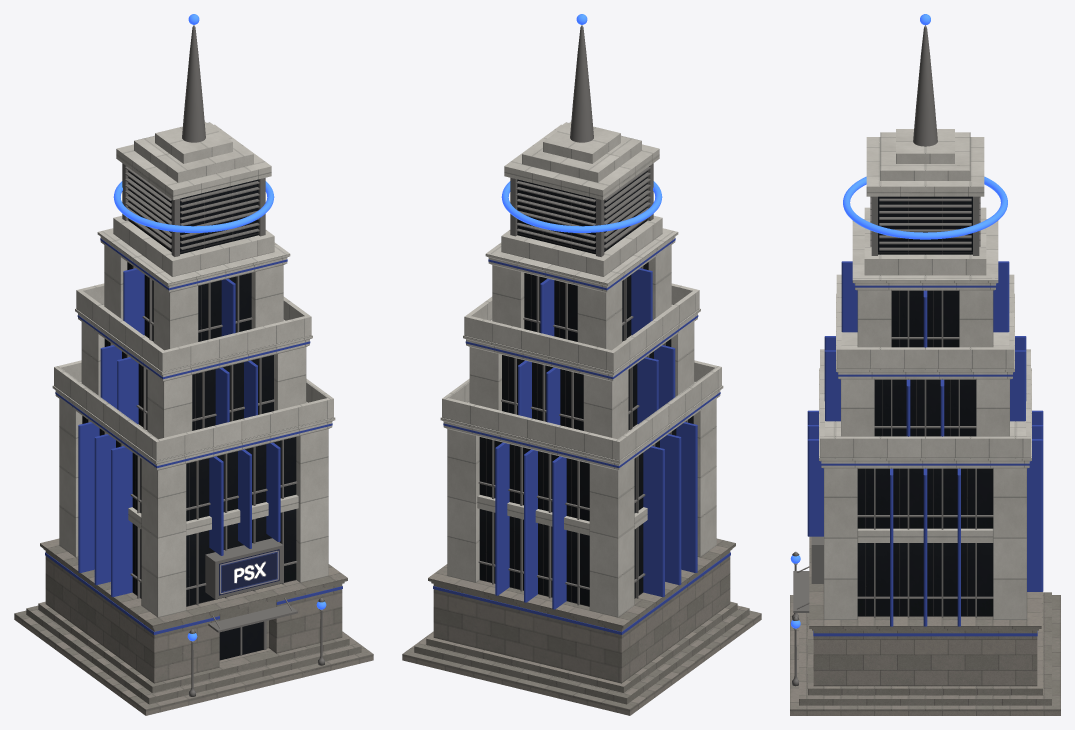
The model's file is s12-parking-smart-x.glb.
The picture shows the model from 3 angles, left to right: view 1: azimuth 30°, elevation 25°; view 2: azimuth 150°, elevation 25°; view 3: azimuth 270°, elevation 25°; orthographic projection. The views are drawn at different scales.
Visible parts, largest first — view 1: Landmark · Parking Smart.X (Series 12); view 2: Landmark · Parking Smart.X (Series 12); view 3: Landmark · Parking Smart.X (Series 12).
Part boxes in pixels (x1=…): Landmark · Parking Smart.X (Series 12): x1=14, y1=14, x2=373, y2=715; Landmark · Parking Smart.X (Series 12): x1=402, y1=14, x2=761, y2=715; Landmark · Parking Smart.X (Series 12): x1=790, y1=14, x2=1060, y2=715.
Bounding box in the file's own units: 12 × 31.5 × 12.
Materials: 7 (4 with a texture image).
